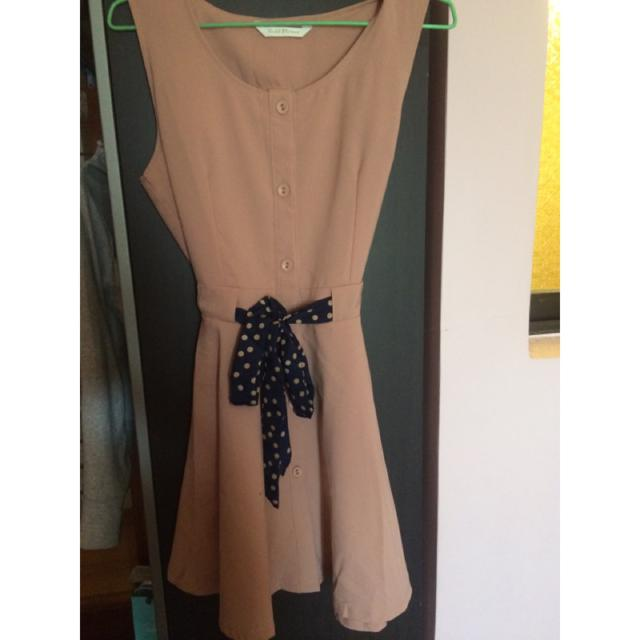Dresses: (128, 1, 420, 614)
